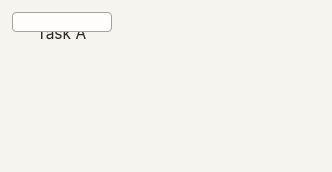
Test: node views & floating block controls › task: 点击外部 Portal 复选框同步 checked 与 aria-checked
Click the checkbox named "Task A": (62, 22) [12, 12, 112, 32]
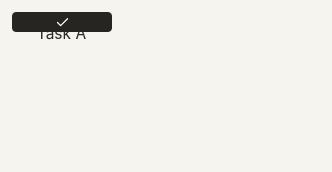
Now the checkbox named "Task A" is checked
Click the checkbox named "Task A": (62, 22) [12, 12, 112, 32]
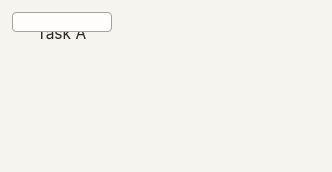
Now the checkbox named "Task A" is not checked, box [12, 12, 112, 32]
